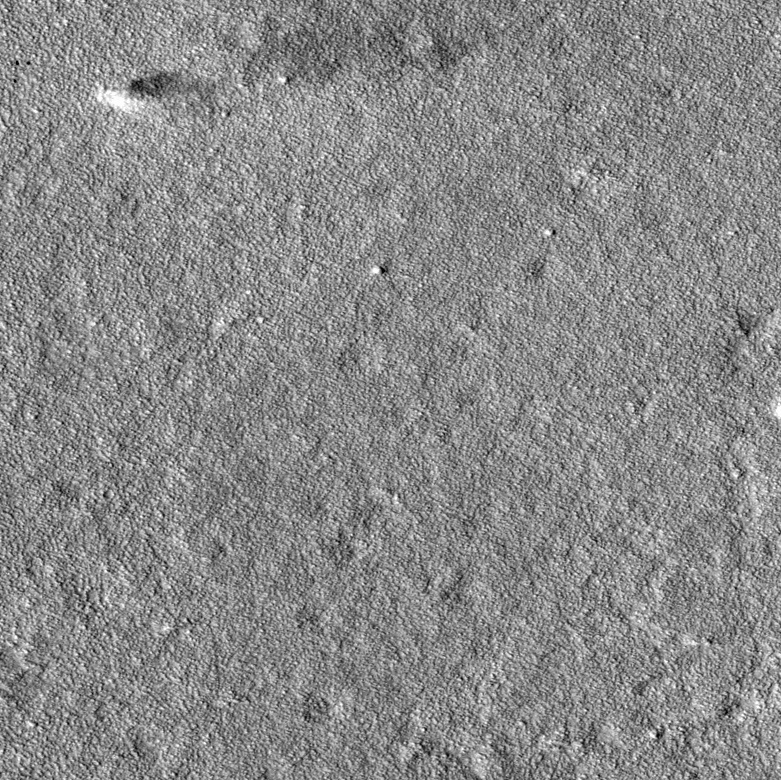dust_devil: (93, 66, 219, 115)
